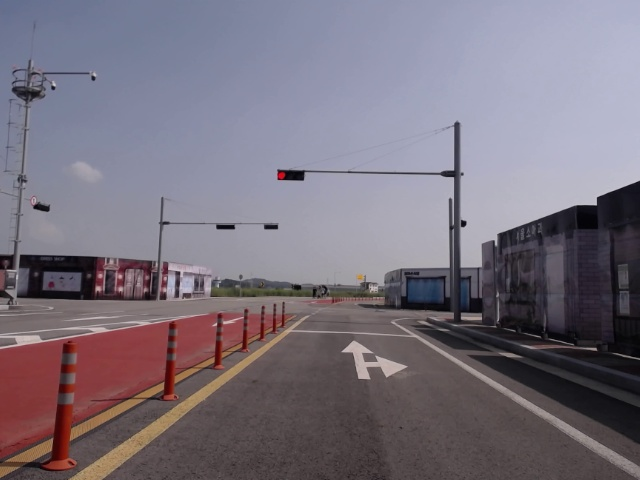red_3: (278, 170, 304, 181)
